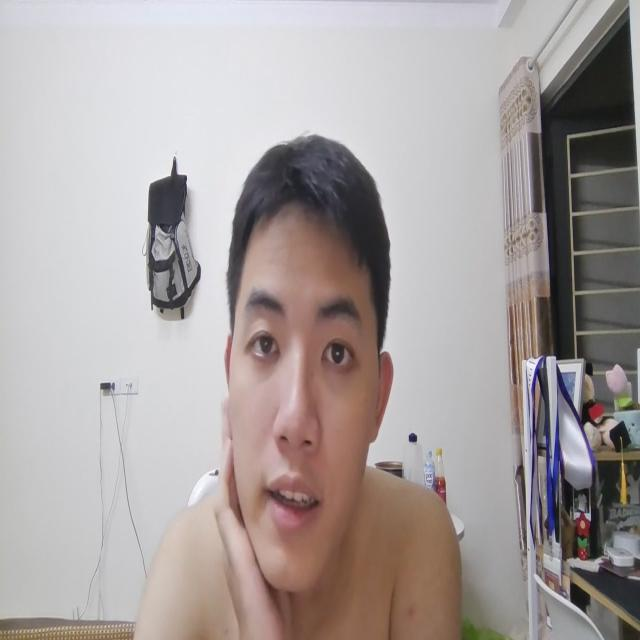student: (208, 128, 390, 640)
